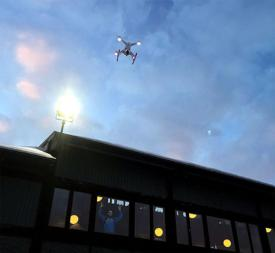UAV: (114, 36, 143, 65)
